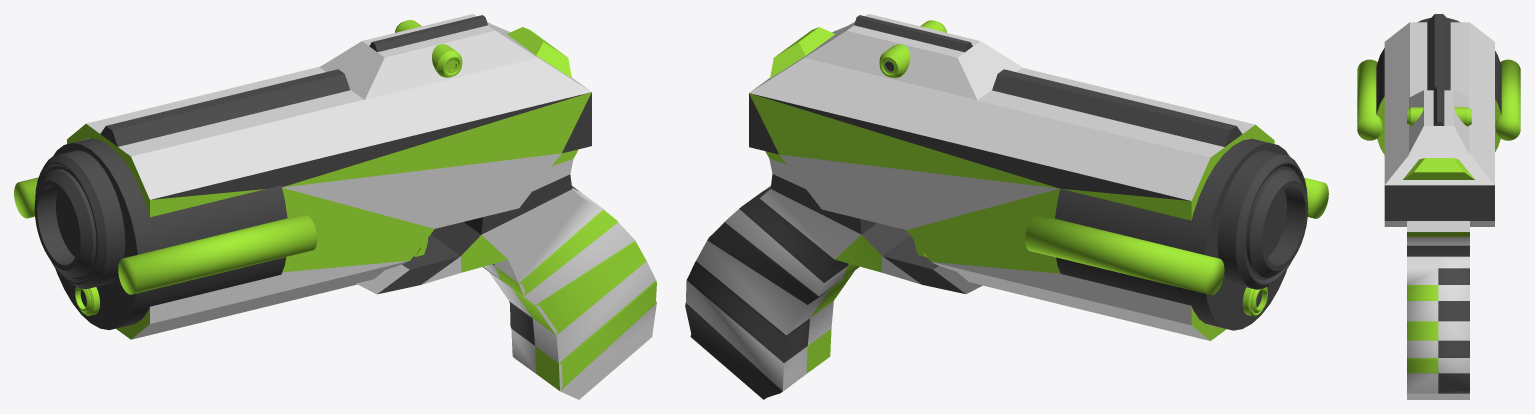
Rendered from gun.fbx.
The picture shows the model from 3 angles, left to right: view 1: azimuth 30°, elevation 25°; view 2: azimuth 150°, elevation 25°; view 3: azimuth 270°, elevation 25°; orthographic projection. The views are drawn at different scales.
Visible parts, largest first — view 1: Cube.001, Cutter.002; view 2: Cube.001, Cutter.002; view 3: Cube.001, Cutter.002.
Part boxes in pixels (<box>): Cube.001: <box>34,14,656,399</box>; Cutter.002: <box>14,177,317,294</box>; Cube.001: <box>685,14,1308,399</box>; Cutter.002: <box>1025,177,1328,295</box>; Cube.001: <box>1376,14,1501,399</box>; Cutter.002: <box>1357,59,1520,140</box>.
Bounding box in the file's own units: 1916 × 1220 × 709.
